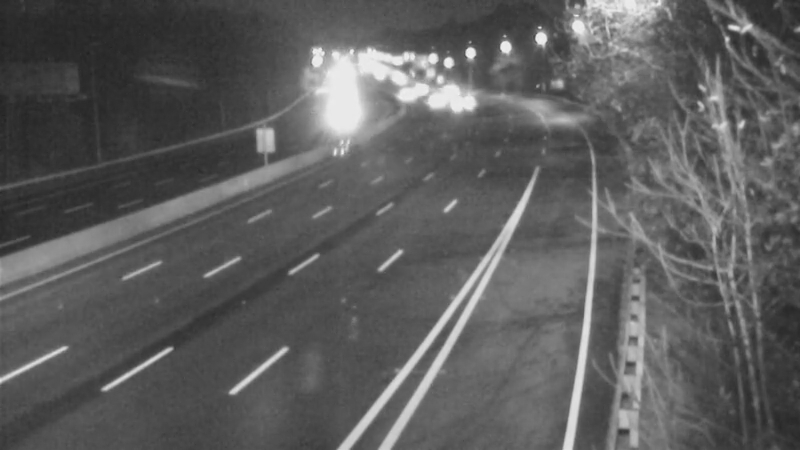vehicle: (409, 70, 459, 120), (438, 82, 488, 132)
